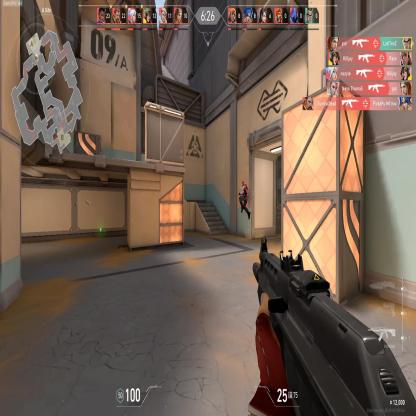enemy: (237, 180, 251, 220)
